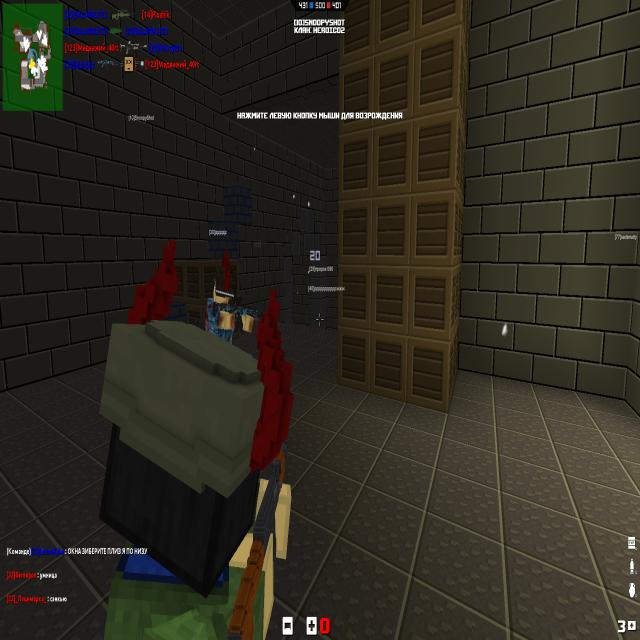player: (109, 232, 301, 633), (207, 251, 258, 347)
